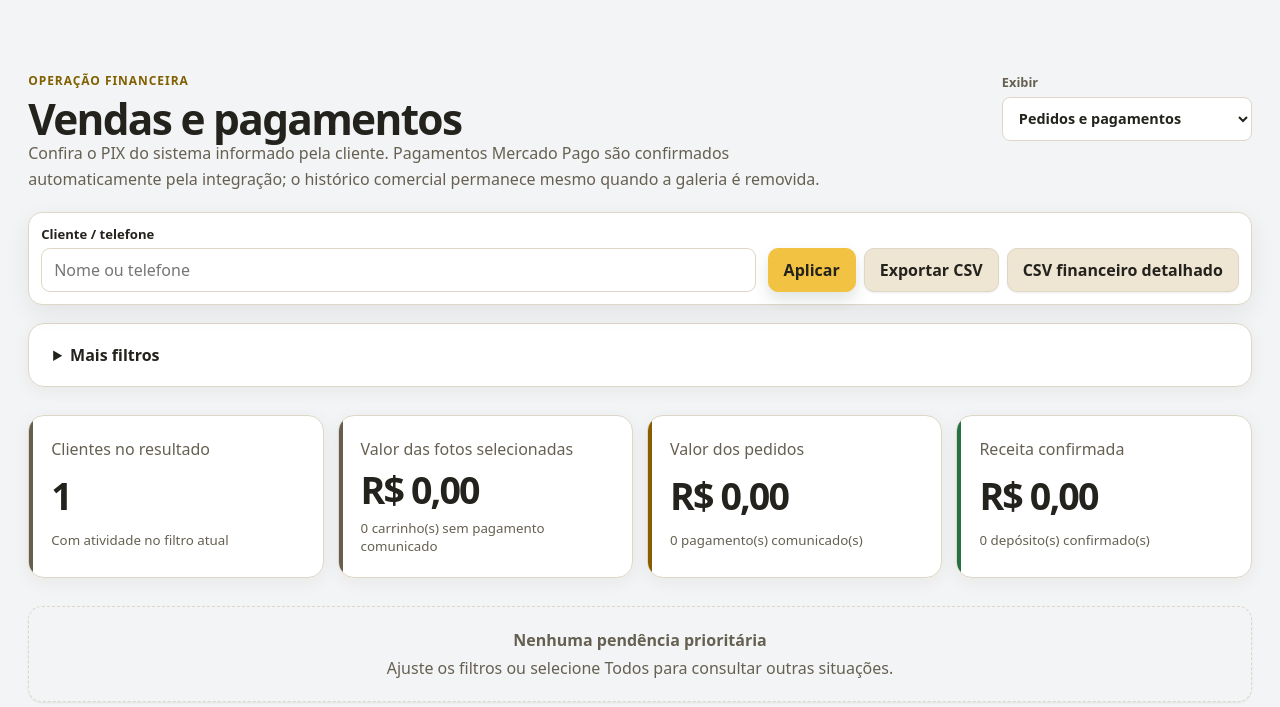
Test case: baixa CSV recebido do servidor e libera o objeto temporário
The width and height of the screenshot is (1280, 707).
Expected: the dropdown labelled "Cliente / telefone" is shown, [41,248,756,292]
Click the button "Exportar CSV".
click(931, 270)  # box [864,248,999,292]
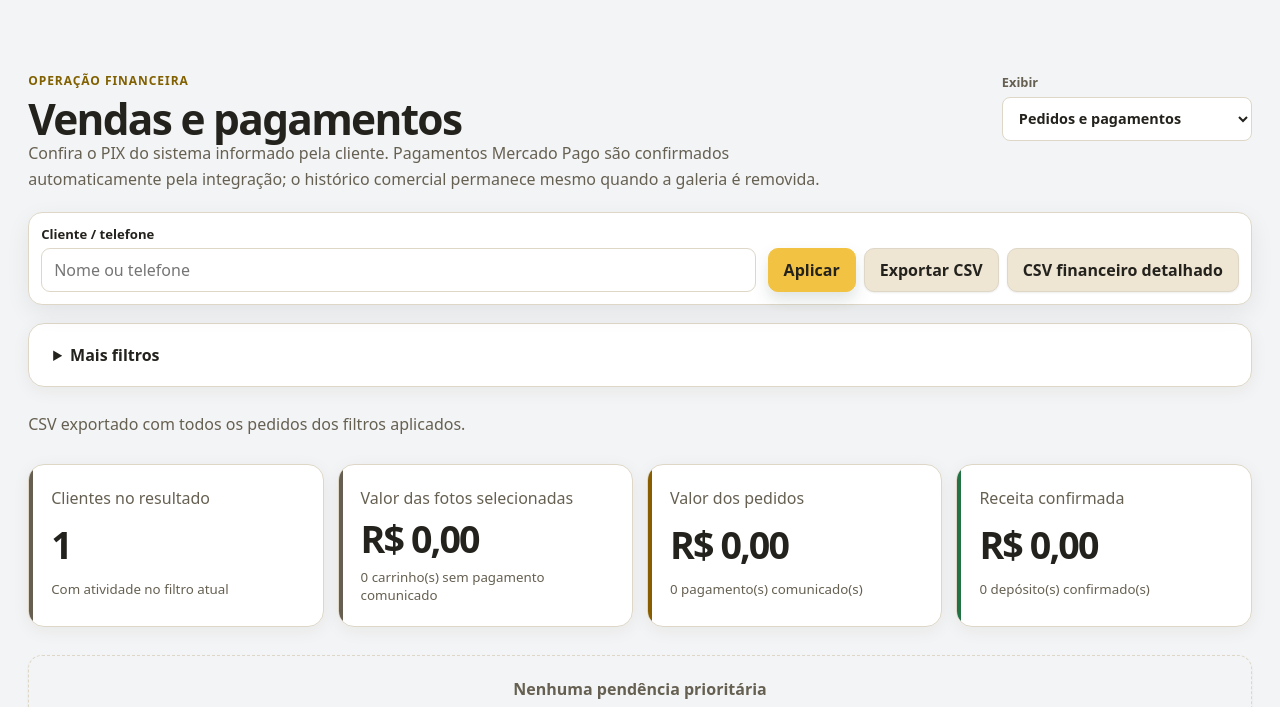
Result: the text "CSV exportado com todos os pedidos dos filtros aplicados." is shown at [28,413,465,435]
